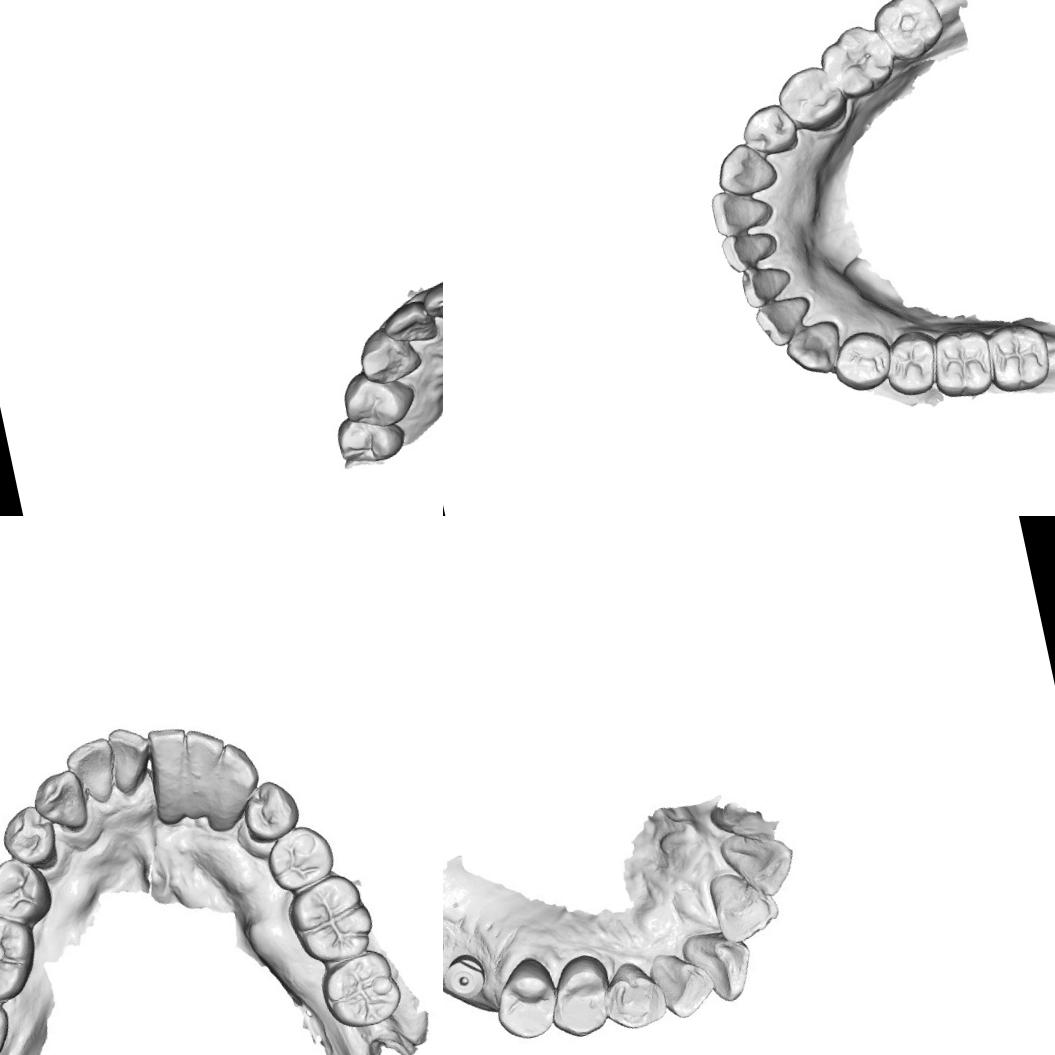canine: (201, 735, 272, 843), (27, 763, 96, 841), (352, 321, 425, 389), (710, 137, 780, 201), (778, 318, 848, 381)
implant: (443, 946, 490, 1001)
incisor: (720, 822, 796, 895), (685, 929, 757, 1001), (178, 723, 234, 812), (708, 869, 778, 939), (145, 724, 198, 814), (705, 182, 778, 241), (652, 952, 712, 1018), (752, 291, 818, 350), (68, 737, 118, 805), (718, 224, 782, 276), (378, 297, 440, 350), (105, 724, 153, 787), (736, 261, 796, 309), (417, 270, 443, 335)
molar: (281, 866, 381, 971), (312, 946, 408, 1036), (814, 18, 899, 106), (980, 318, 1054, 398), (925, 324, 1000, 402), (867, 0, 951, 64), (0, 911, 37, 1000)
premolar: (485, 950, 564, 1044), (770, 58, 852, 139), (335, 360, 419, 436), (262, 820, 336, 898), (546, 958, 618, 1038), (0, 798, 67, 878), (876, 326, 944, 400), (0, 850, 59, 935), (332, 406, 410, 470), (827, 325, 896, 395), (603, 967, 666, 1032), (238, 778, 301, 841), (736, 100, 800, 159)
